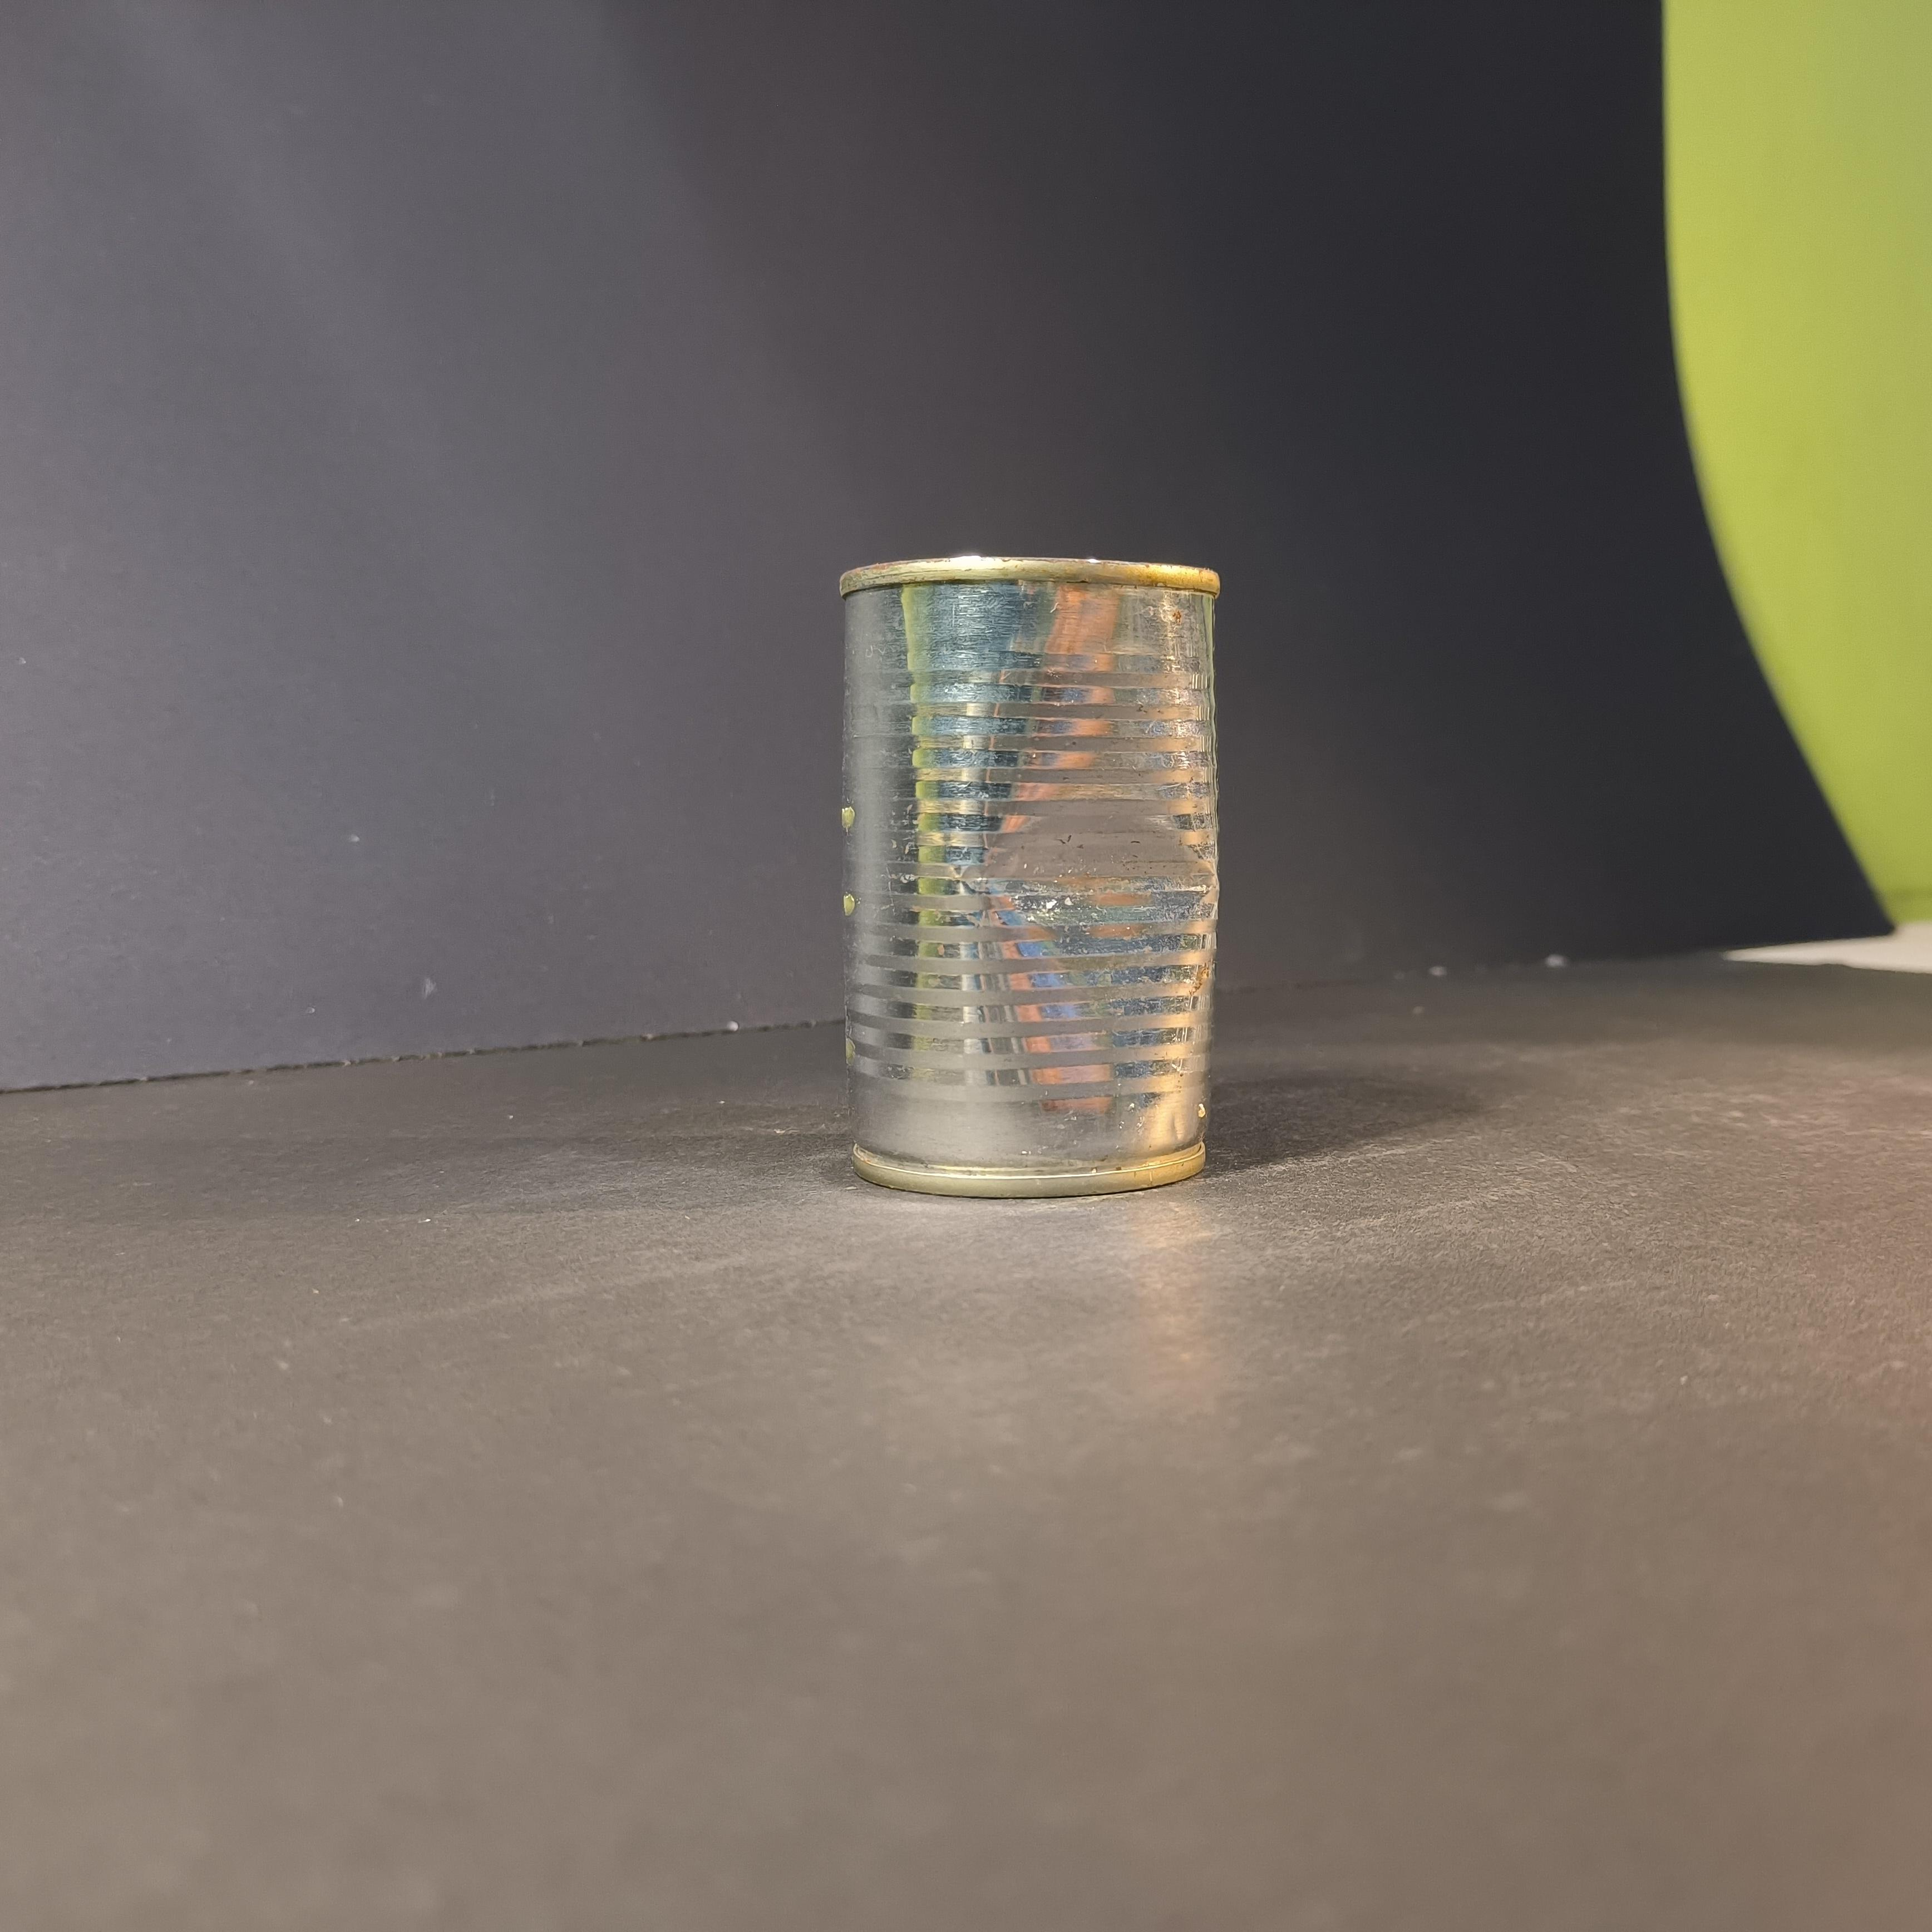Dented: (817, 524, 1244, 1221)
